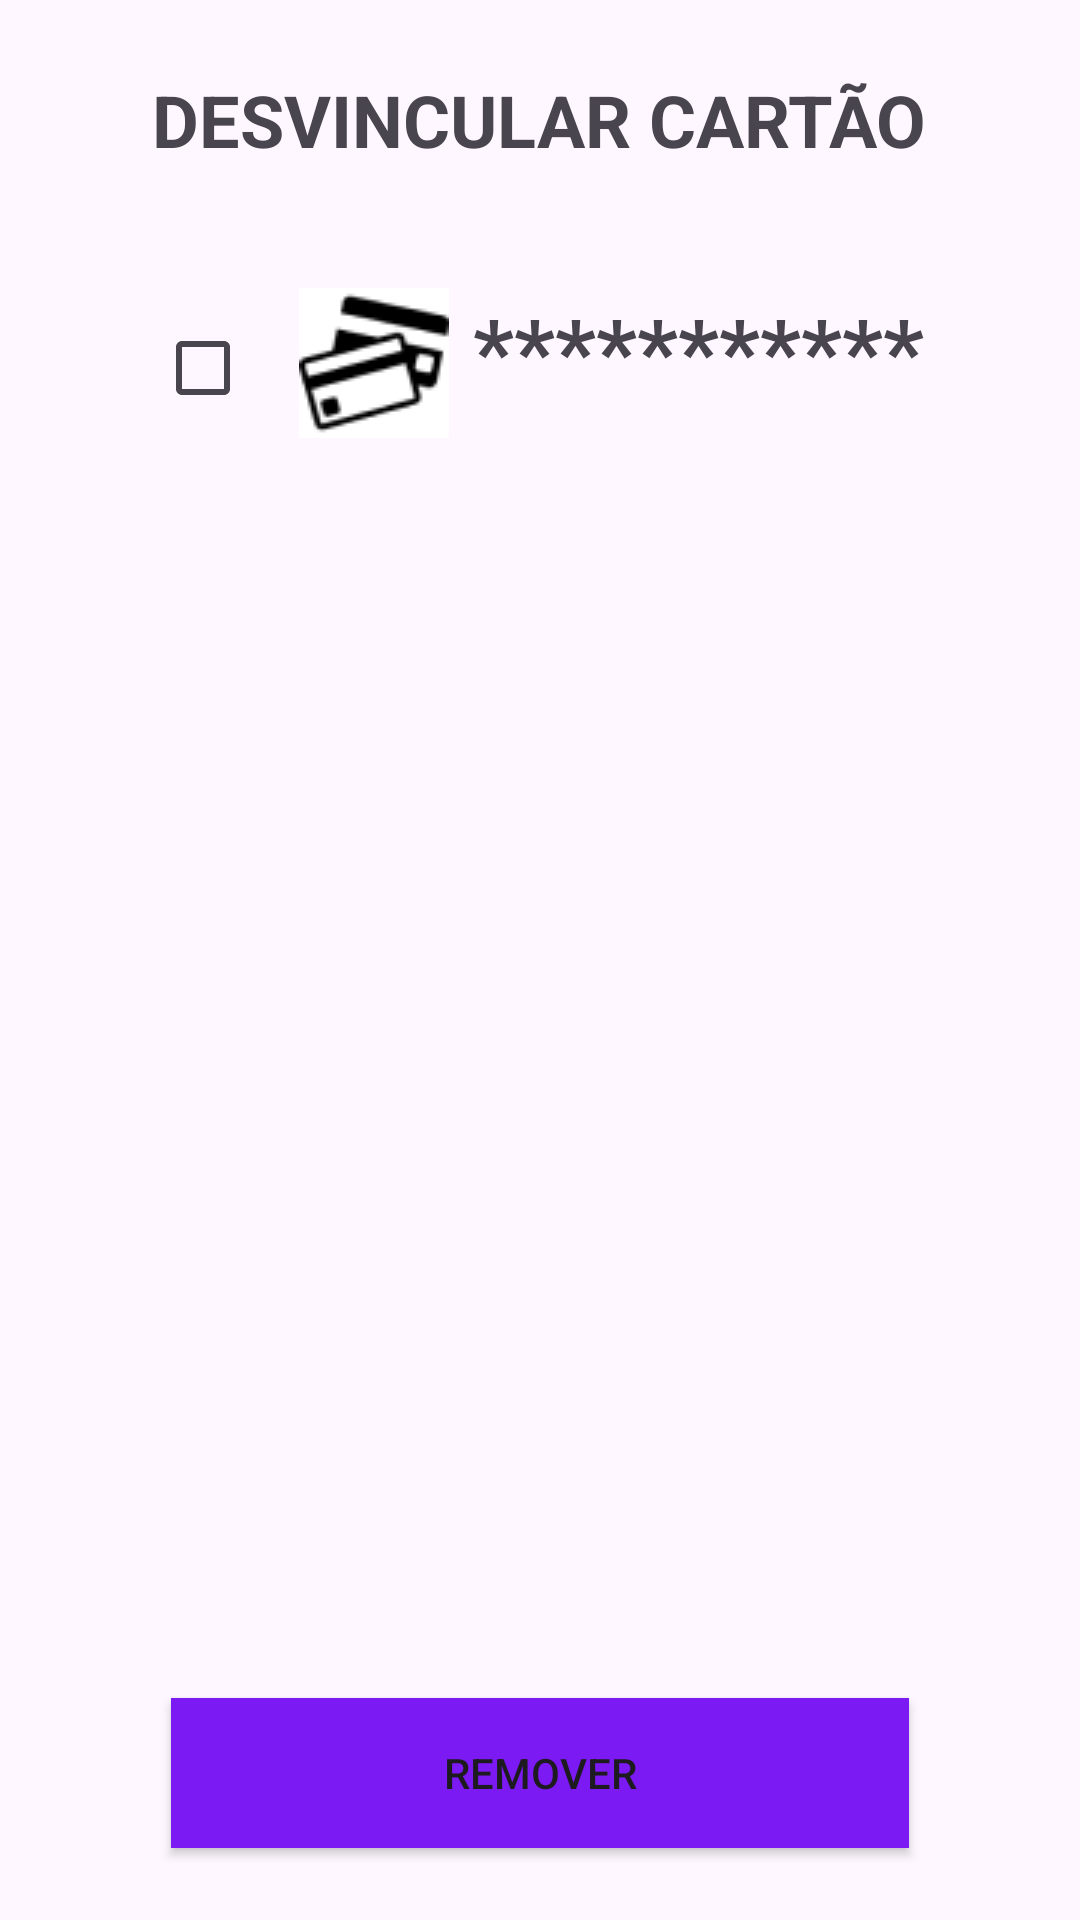

Named icons in this screenshot (1080w x 1920h) and their centers, point (x, y):
cartao: point (374, 363)
